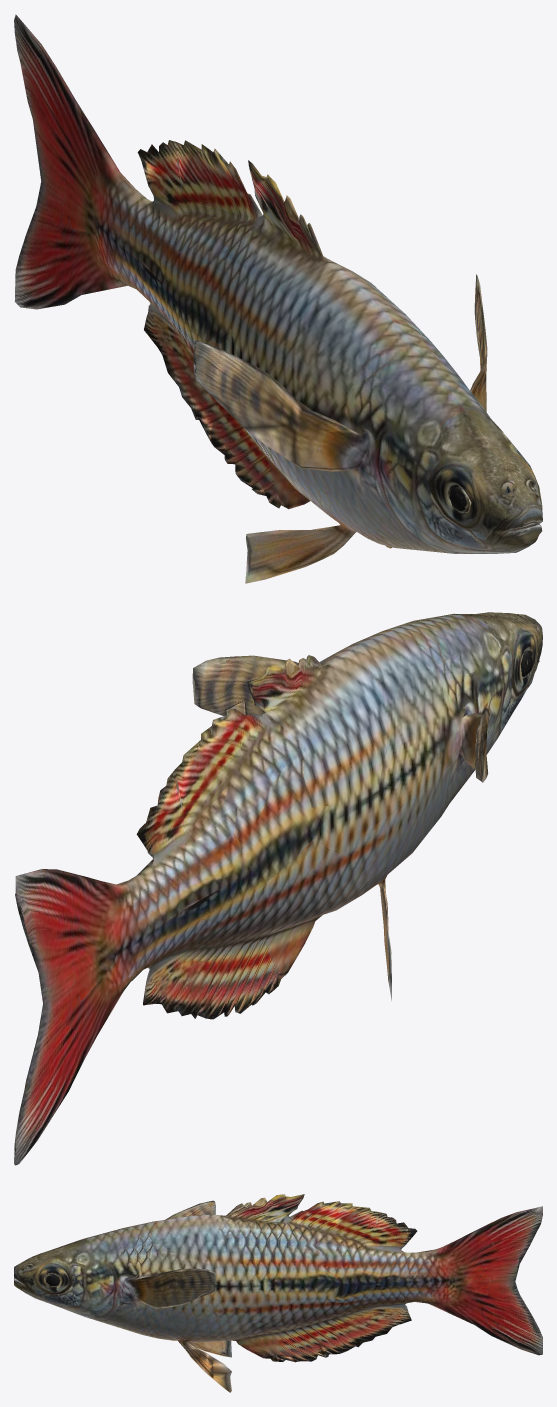
The model's file is bedotia.lo.glb.
3 views of the same model, one above another, from view 1: azimuth 30°, elevation 25°; view 2: azimuth 150°, elevation 25°; view 3: azimuth 270°, elevation 25° (orthographic). The views are drawn at different scales.
Visible parts, largest first — view 1: Mesh_0; view 2: Mesh_0; view 3: Mesh_0.
Boxes of the visible parts, x1,y1,x2,y2 form: Mesh_0: (14,14,542,583); Mesh_0: (14,612,542,1165); Mesh_0: (14,1194,542,1392).
Size of the model in its own units: 0.0304 by 0.0364 by 0.096.
2 materials, 2 textured.
